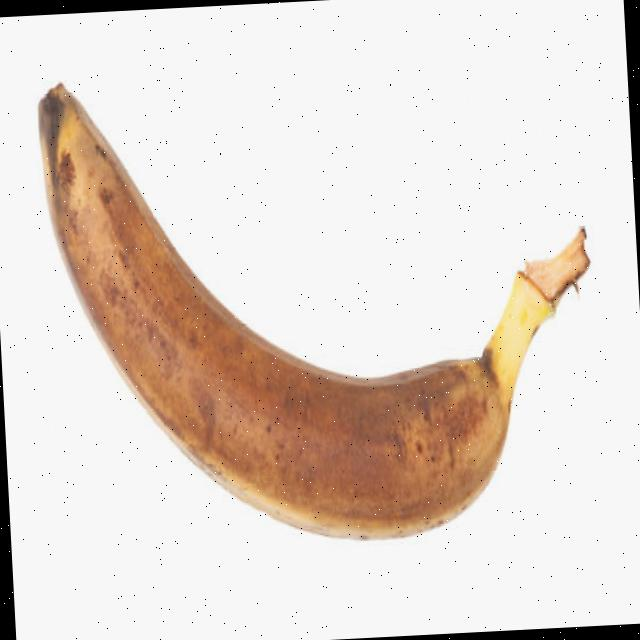overripe: (31, 51, 570, 567)
